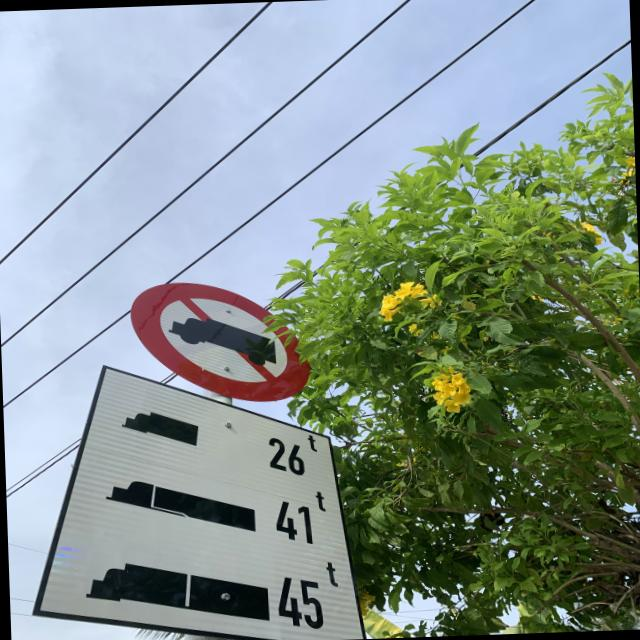Cam_Xe_Tai: (133, 277, 314, 408)
